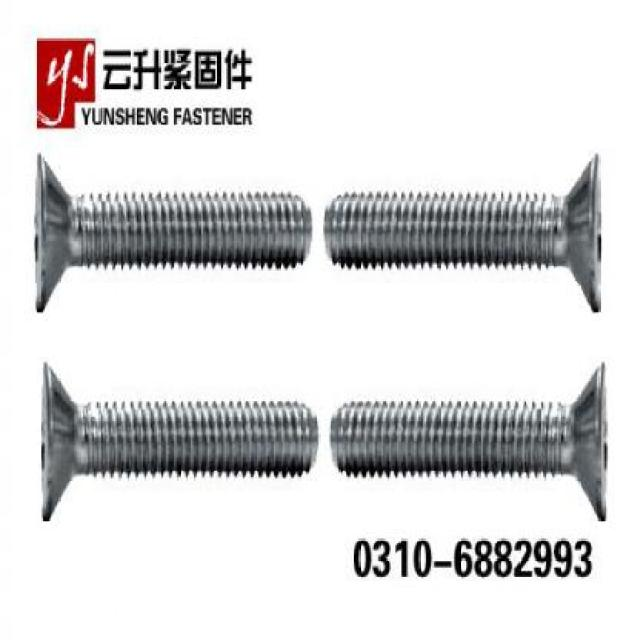Bolt: (36, 360, 322, 525), (324, 151, 608, 317), (28, 152, 313, 316), (326, 360, 614, 522)
